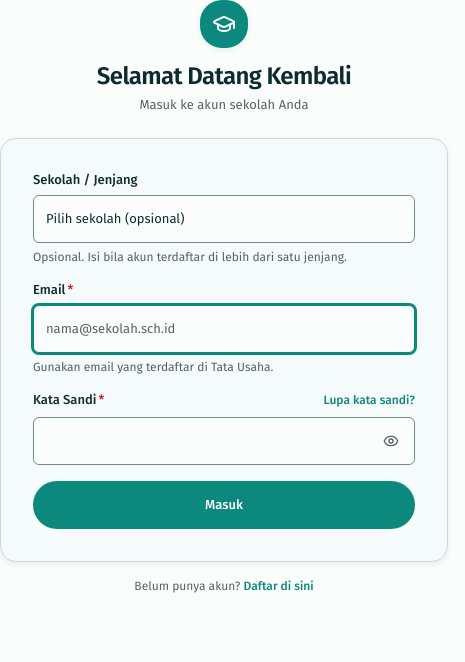
SignInPage › shows a form-level error for invalid credentials
Type "budi@menteng.sch.id" into the field labelled "Email*".
click(224, 329); type("budi@menteng.sch.id")  # box left=33, top=305, right=415, bottom=353
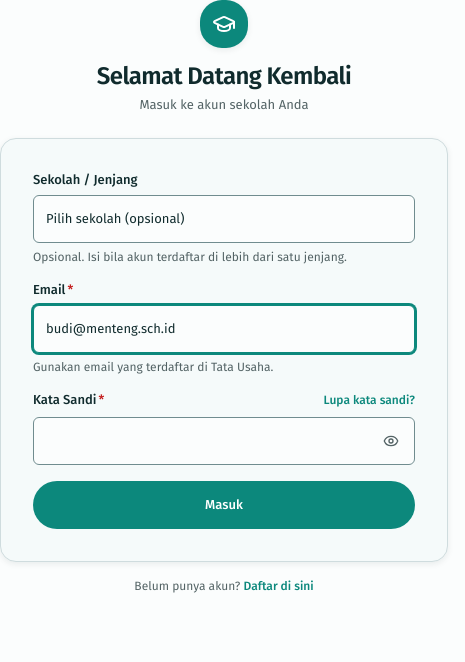
Type "wrong-password" into the password field labelled "Kata Sandi*".
click(224, 441); type("wrong-password")  # box left=33, top=417, right=415, bottom=465
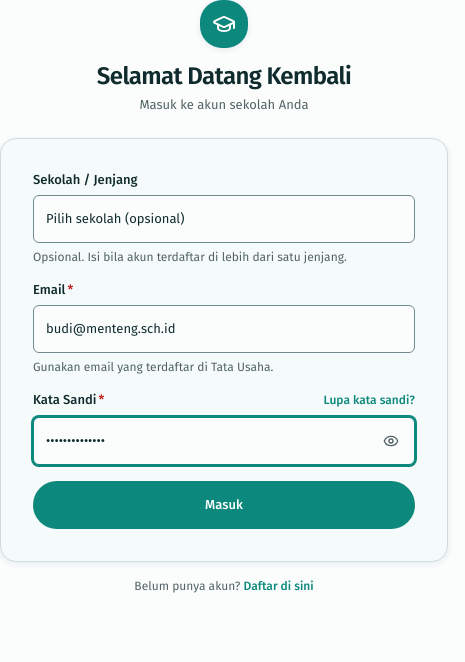
Click the button "Masuk".
click(224, 505)  # box left=33, top=481, right=415, bottom=529
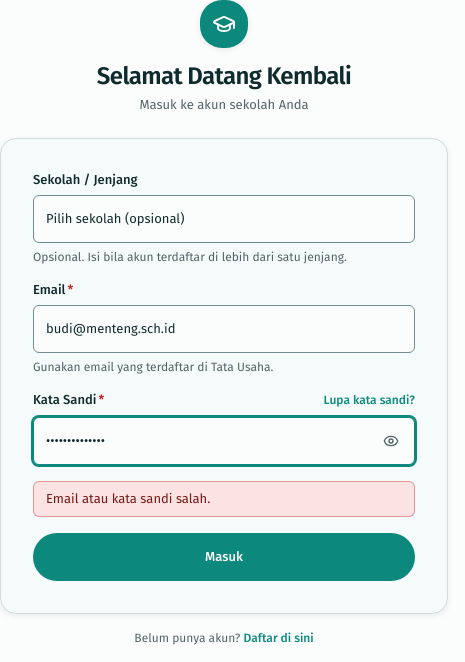
Now the text "Email atau kata sandi salah." is shown, box left=33, top=481, right=415, bottom=517
